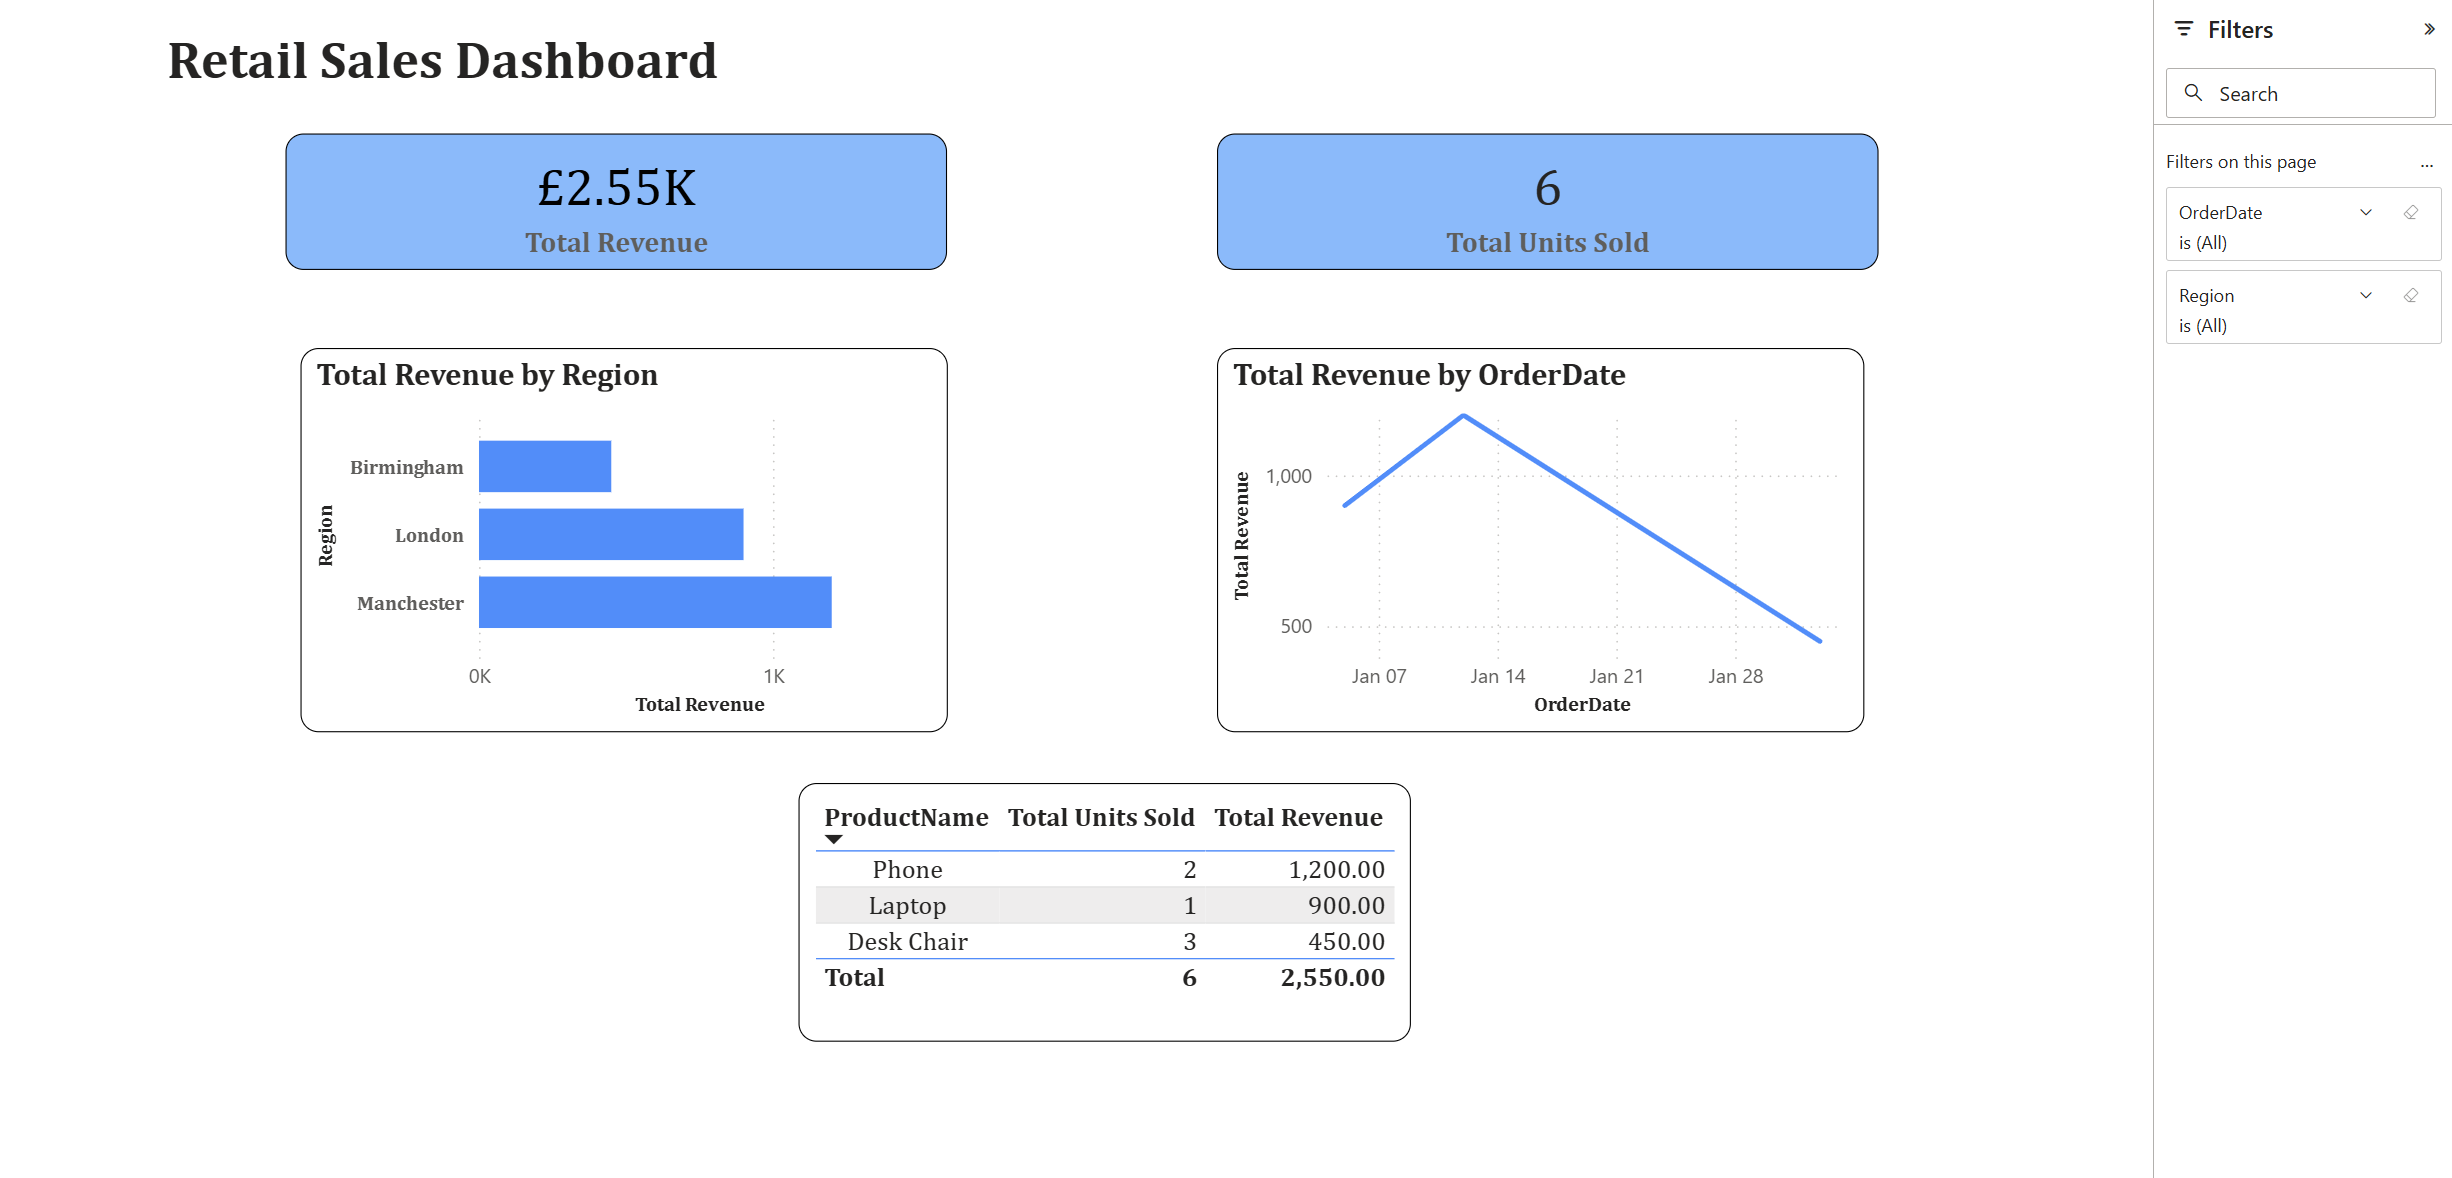

What the dashboard file says about the page in this screenshot:
{"tool":"powerbi","page":{"name":"Page 1","canvas":[1280,720],"ordinal":0},"visuals":[{"type":"card","fields":{"Values":["OrderDetails.Total Revenue"]},"box":[158.9,81.5,404.3,83.5],"z":0},{"type":"card","fields":{"Values":["OrderDetails.Total Units Sold"]},"box":[727.2,81.5,404.3,83.5],"z":1000},{"type":"barChart","fields":{"Category":["Customers.Region"],"Y":["OrderDetails.Total Revenue"]},"box":[168,212.2,395.3,234.3],"z":3000},{"type":"lineChart","fields":{"Y":["OrderDetails.Total Revenue"],"Category":["Orders.OrderDate"]},"box":[727.2,212.2,395.3,234.3],"z":4000},{"type":"tableEx","fields":{"Values":["Products.ProductName","OrderDetails.Total Units Sold","OrderDetails.Total Revenue"]},"box":[472,478,374,158],"z":5000},{"type":"textbox","box":[20.1,12.1,468.7,56.3],"z":6000}]}

Visuals, with their boxes in screenshot pixels (x1, y1, x2, y2):
card - OrderDetails.Total Revenue: {"x1": 294, "y1": 131, "x2": 945, "y2": 266}
card - OrderDetails.Total Units Sold: {"x1": 1209, "y1": 131, "x2": 1859, "y2": 266}
barChart - Customers.Region x OrderDetails.Total Revenue: {"x1": 309, "y1": 341, "x2": 945, "y2": 719}
lineChart - OrderDetails.Total Revenue x Orders.OrderDate: {"x1": 1209, "y1": 341, "x2": 1845, "y2": 719}
tableEx - Products.ProductName x OrderDetails.Total Units Sold: {"x1": 798, "y1": 769, "x2": 1400, "y2": 1023}
textbox: {"x1": 71, "y1": 19, "x2": 825, "y2": 110}
